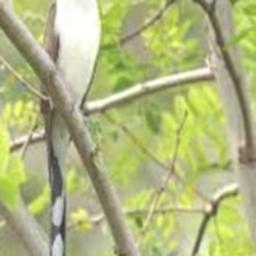Cuckoo: (42, 0, 103, 256)
